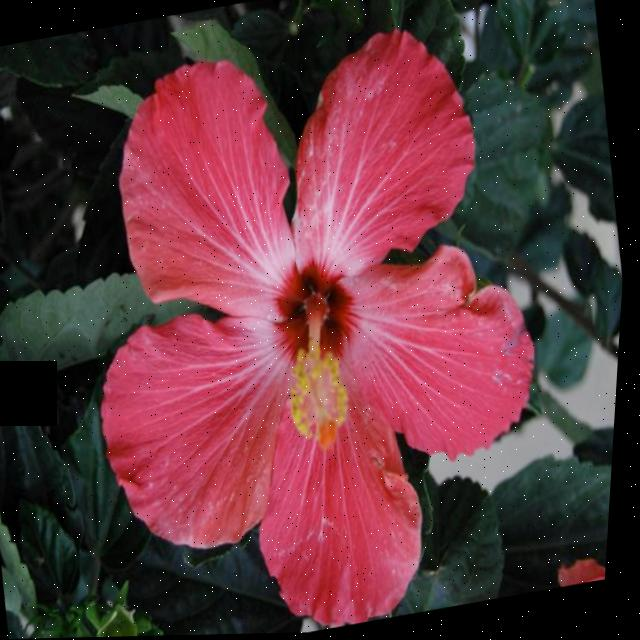hibiscus: (0, 0, 604, 640)
